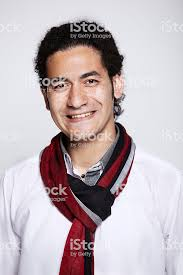middle_eastern_male: (43, 35, 123, 139)
